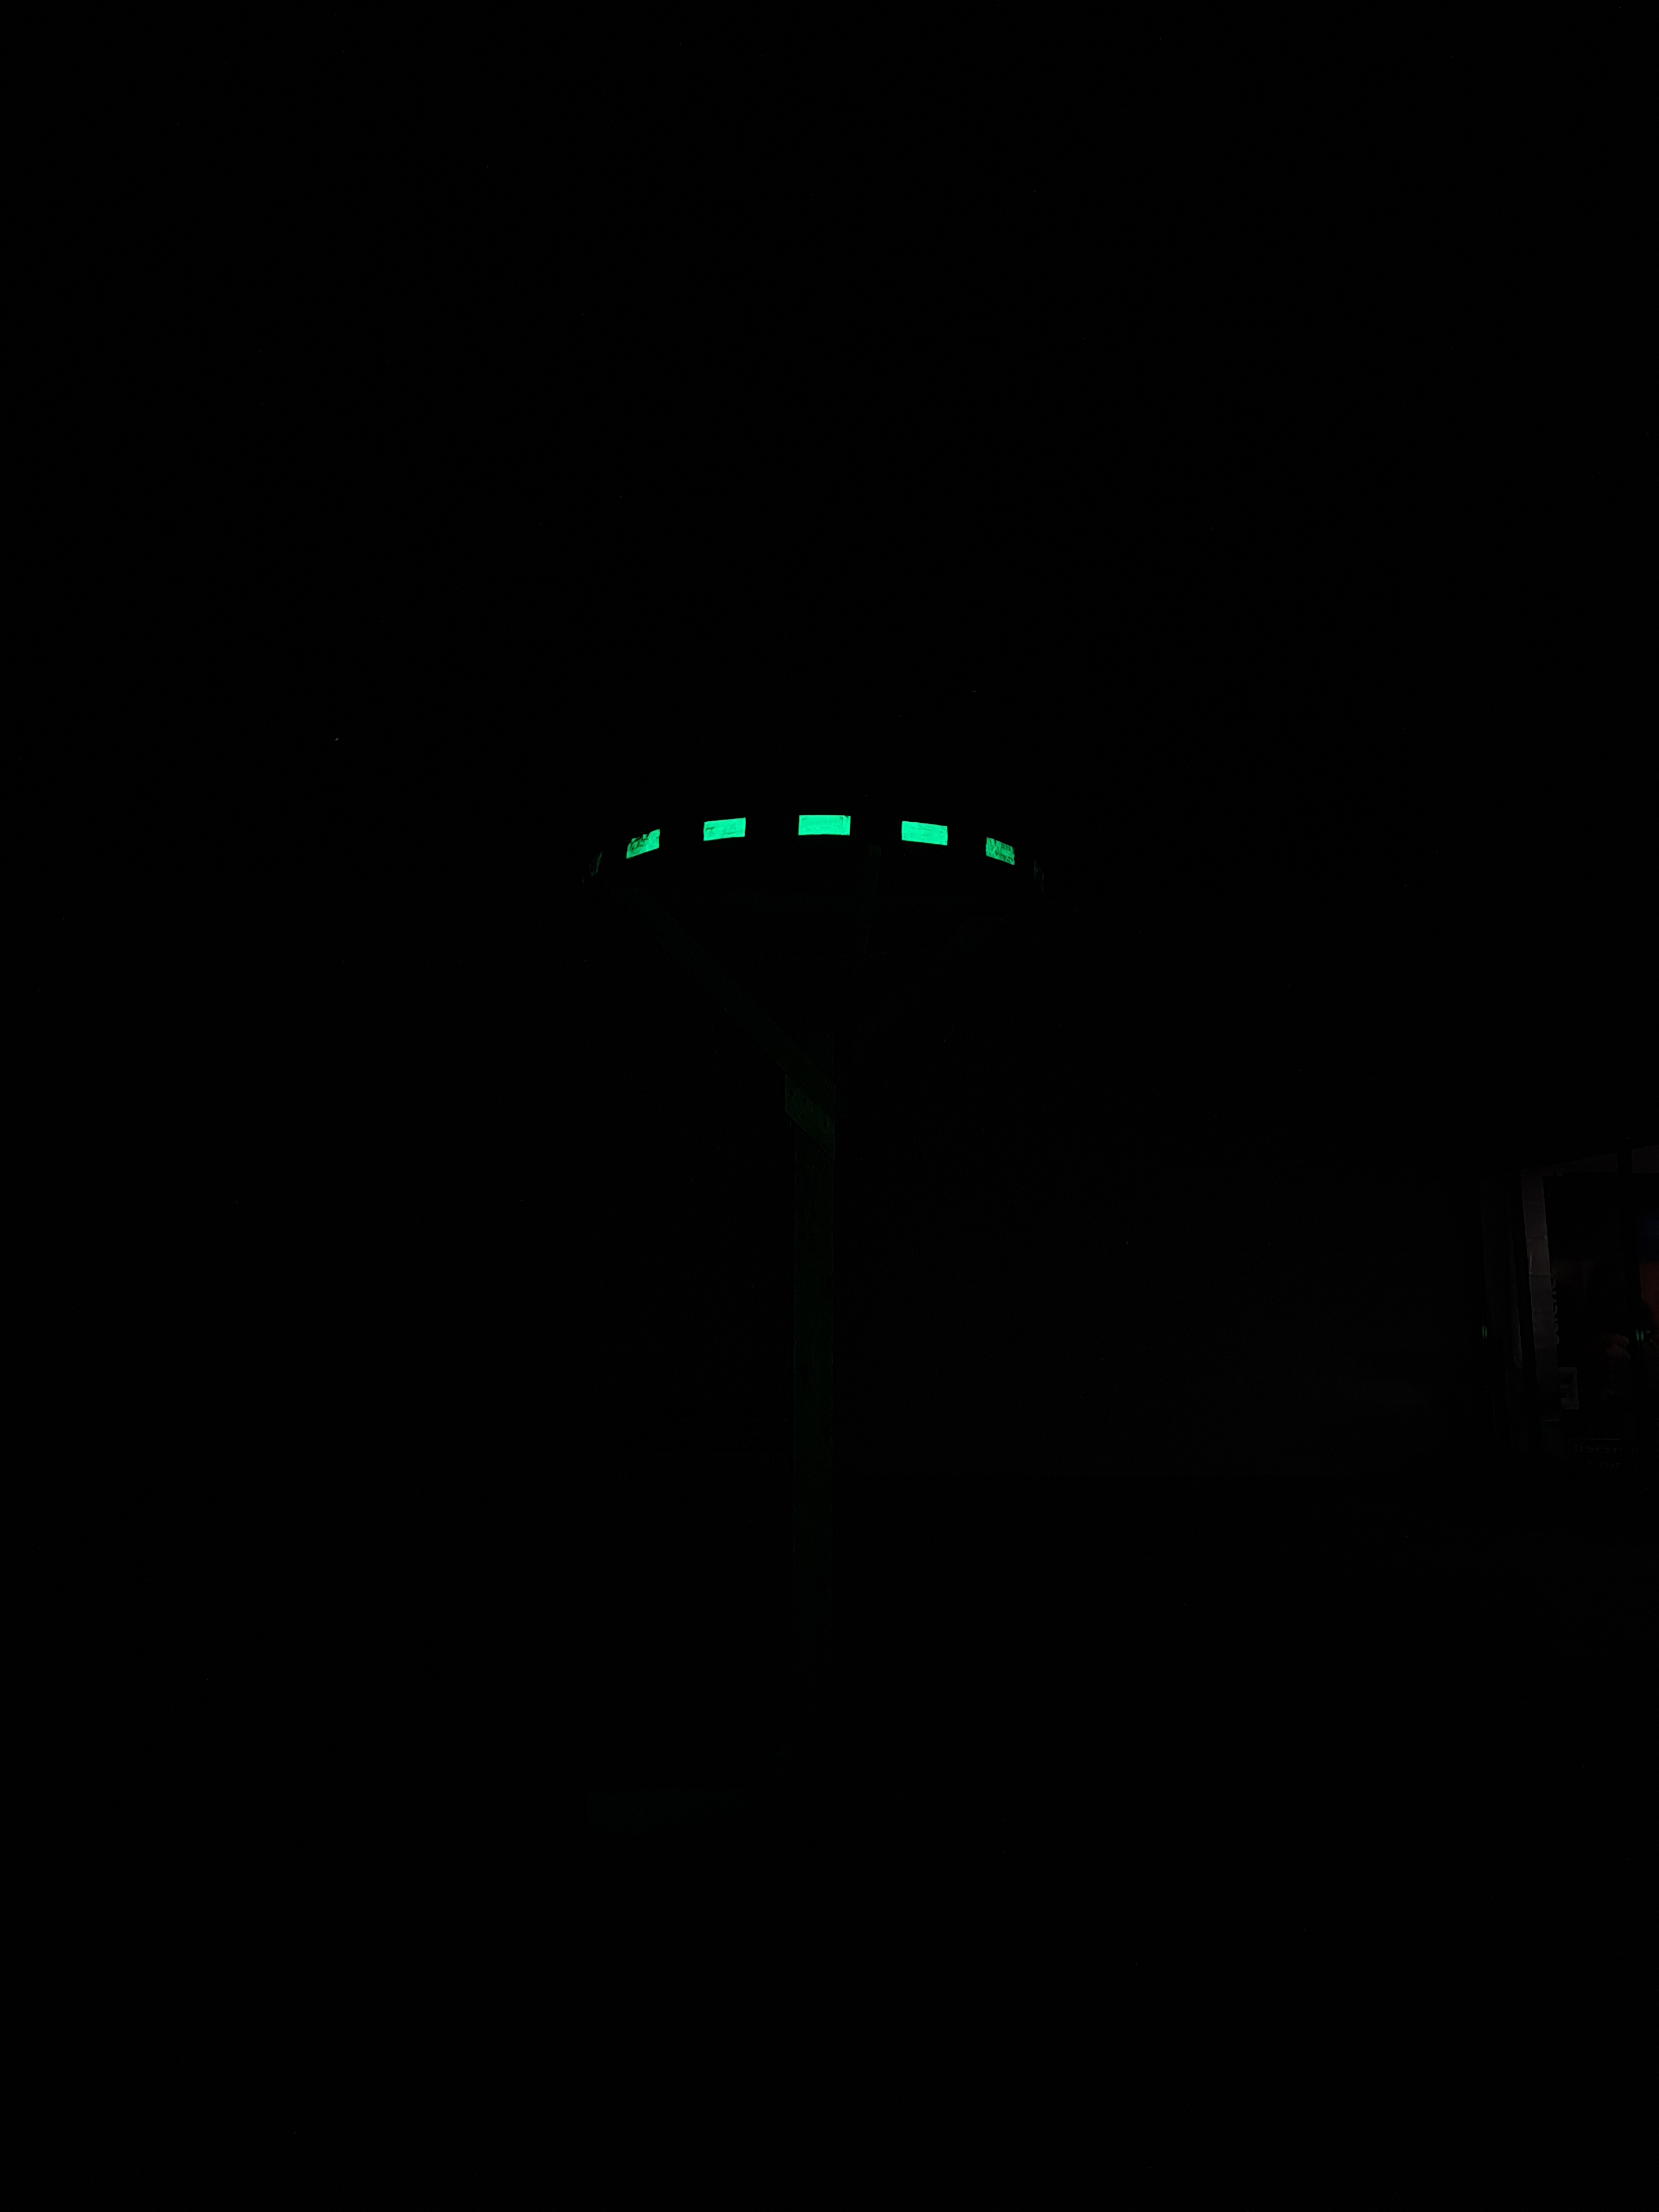hoop: (622, 817, 1023, 876)
